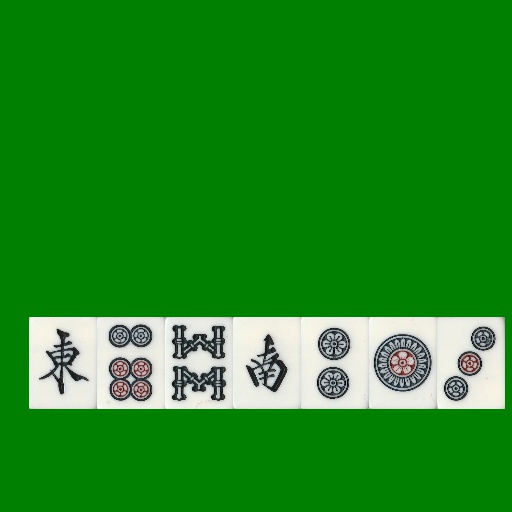1p: (369, 317, 437, 409)
2p: (301, 317, 369, 409)
3p: (437, 317, 505, 409)
6p: (97, 317, 165, 409)
8s: (165, 317, 233, 409)
east: (29, 317, 97, 409)
south: (233, 317, 301, 409)
